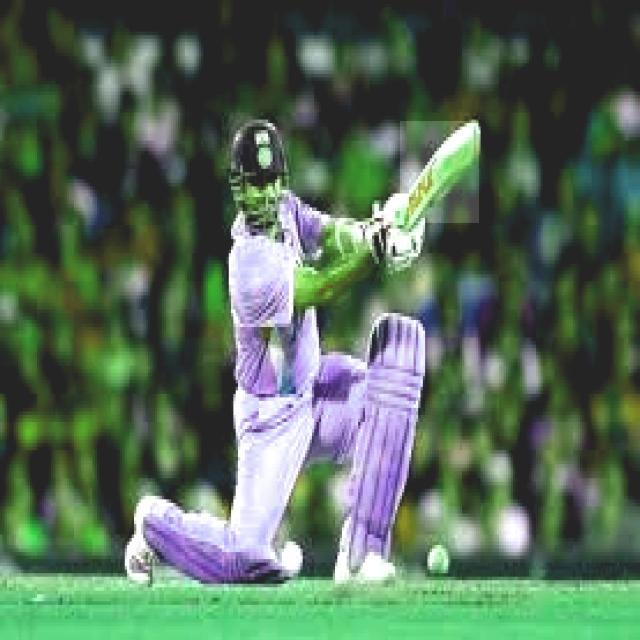bat: (400, 123, 481, 224)
toe: (470, 121, 482, 156)
